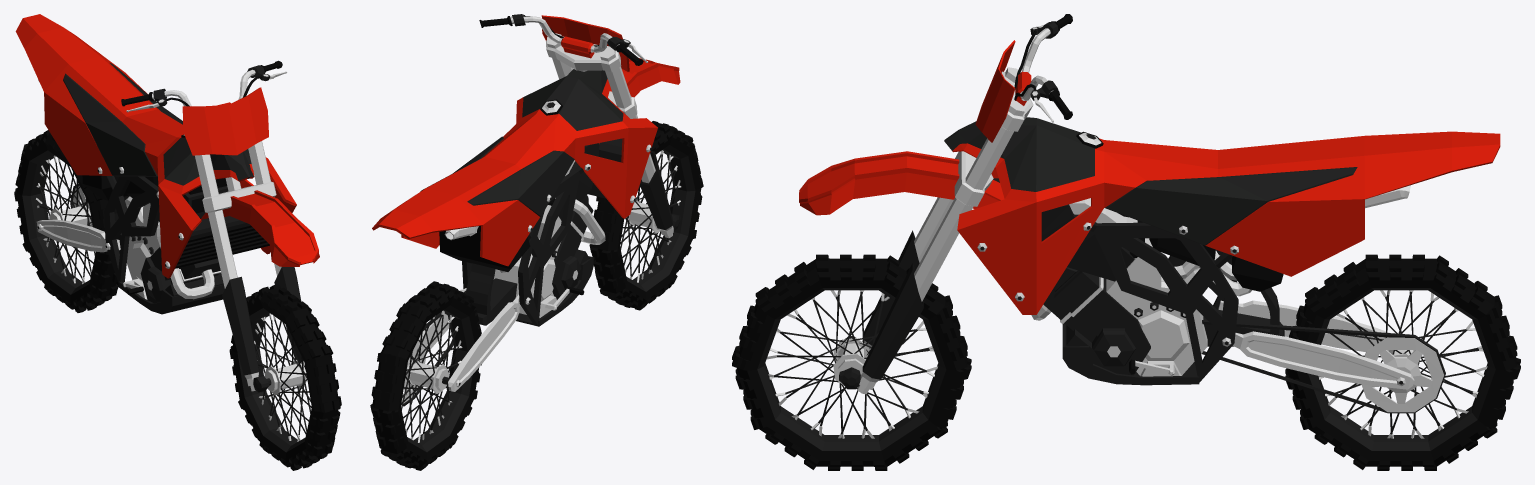
Rendered from Dirtbike_01.FBX.
3 views of the same model, side by side, from view 1: azimuth 30°, elevation 25°; view 2: azimuth 150°, elevation 25°; view 3: azimuth 270°, elevation 25° (orthographic). The views are drawn at different scales.
Parts seen in each view (by area): view 1: Dirtbike_01, wheel_f_r, wheel_b, steering, motor, shield, mudguard, suspension, handlebars; view 2: Dirtbike_01, wheel_b, wheel_f_r, motor, steering, suspension, handlebars, spring, shield, mudguard; view 3: Dirtbike_01, wheel_b, wheel_f_r, motor, steering, suspension, mudguard, handlebars, chain, shield, spring.
Part boxes in pixels (x1,y1,x2,y2): Dirtbike_01: [15, 14, 296, 314]; wheel_f_r: [229, 284, 341, 470]; wheel_b: [14, 130, 120, 312]; steering: [195, 141, 305, 392]; motor: [82, 175, 228, 302]; shield: [182, 87, 268, 155]; mudguard: [201, 190, 319, 266]; suspension: [36, 219, 140, 252]; handlebars: [121, 60, 286, 112]; Dirtbike_01: [372, 69, 657, 326]; wheel_b: [370, 281, 481, 470]; wheel_f_r: [589, 121, 703, 310]; motor: [439, 143, 605, 317]; steering: [546, 33, 680, 238]; suspension: [416, 288, 520, 391]; handlebars: [479, 14, 647, 65]; spring: [466, 263, 517, 325]; shield: [541, 15, 629, 71]; mudguard: [599, 58, 680, 143]; Dirtbike_01: [944, 117, 1500, 385]; wheel_b: [1285, 254, 1520, 470]; wheel_f_r: [732, 254, 971, 470]; motor: [1031, 198, 1283, 376]; steering: [839, 67, 1033, 394]; suspension: [1218, 300, 1414, 389]; mudguard: [799, 151, 1004, 215]; handlebars: [1014, 14, 1072, 122]; chain: [1201, 320, 1445, 413]; shield: [975, 40, 1015, 142]; spring: [1203, 287, 1284, 346].
Bounding box in the file's own units: 6.79 × 13.08 × 22.6.
